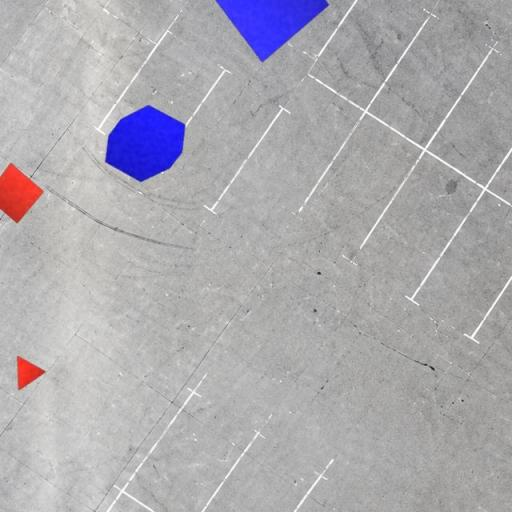BLUE_SQUARE: (208, 0, 330, 63)
RED_SQUARE: (0, 162, 45, 224)
